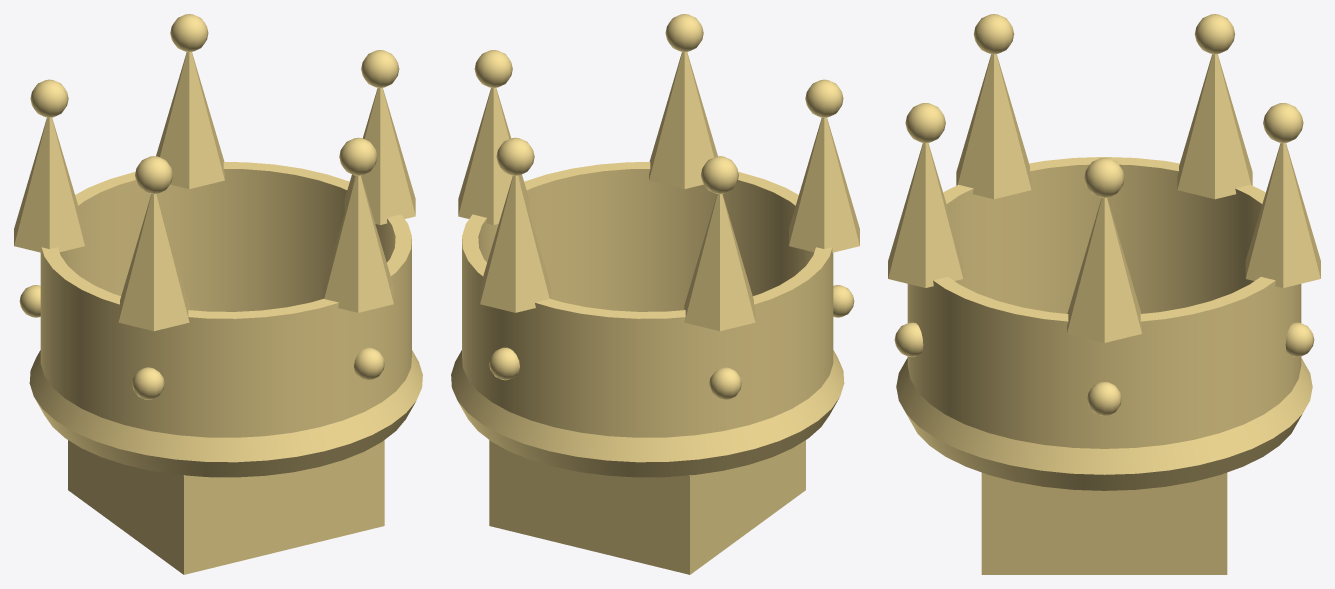
The model's file is crown.glb.
The picture shows the model from 3 angles, left to right: view 1: azimuth 30°, elevation 25°; view 2: azimuth 150°, elevation 25°; view 3: azimuth 270°, elevation 25°; orthographic projection. The views are drawn at different scales.
Parts seen in each view (by area): view 1: crown; view 2: crown; view 3: crown.
Part boxes in pixels (left/top/right/bottom): crown: left=14, top=14, right=422, bottom=574; crown: left=451, top=14, right=859, bottom=574; crown: left=888, top=14, right=1320, bottom=574.
Size of the model in its own units: 0.76 by 0.845 by 0.748.
